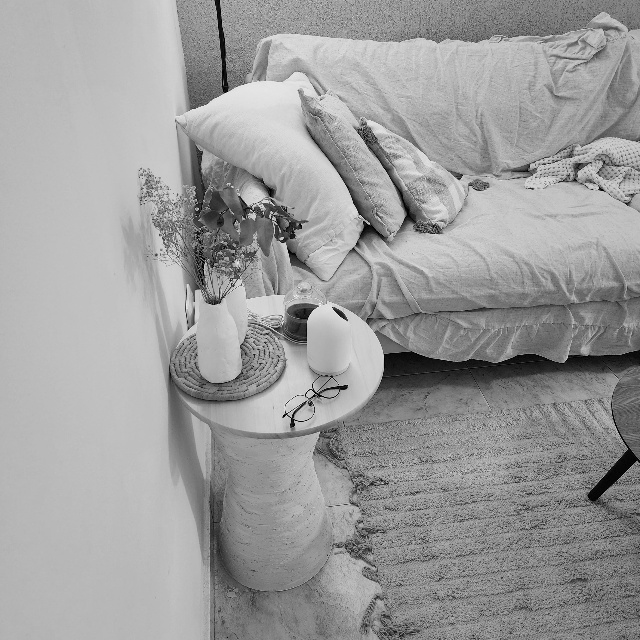glasses: (281, 374, 349, 428)
